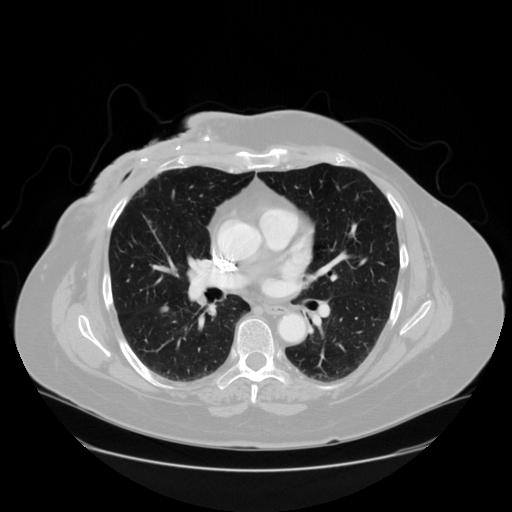nodule: (159, 302, 173, 316)
